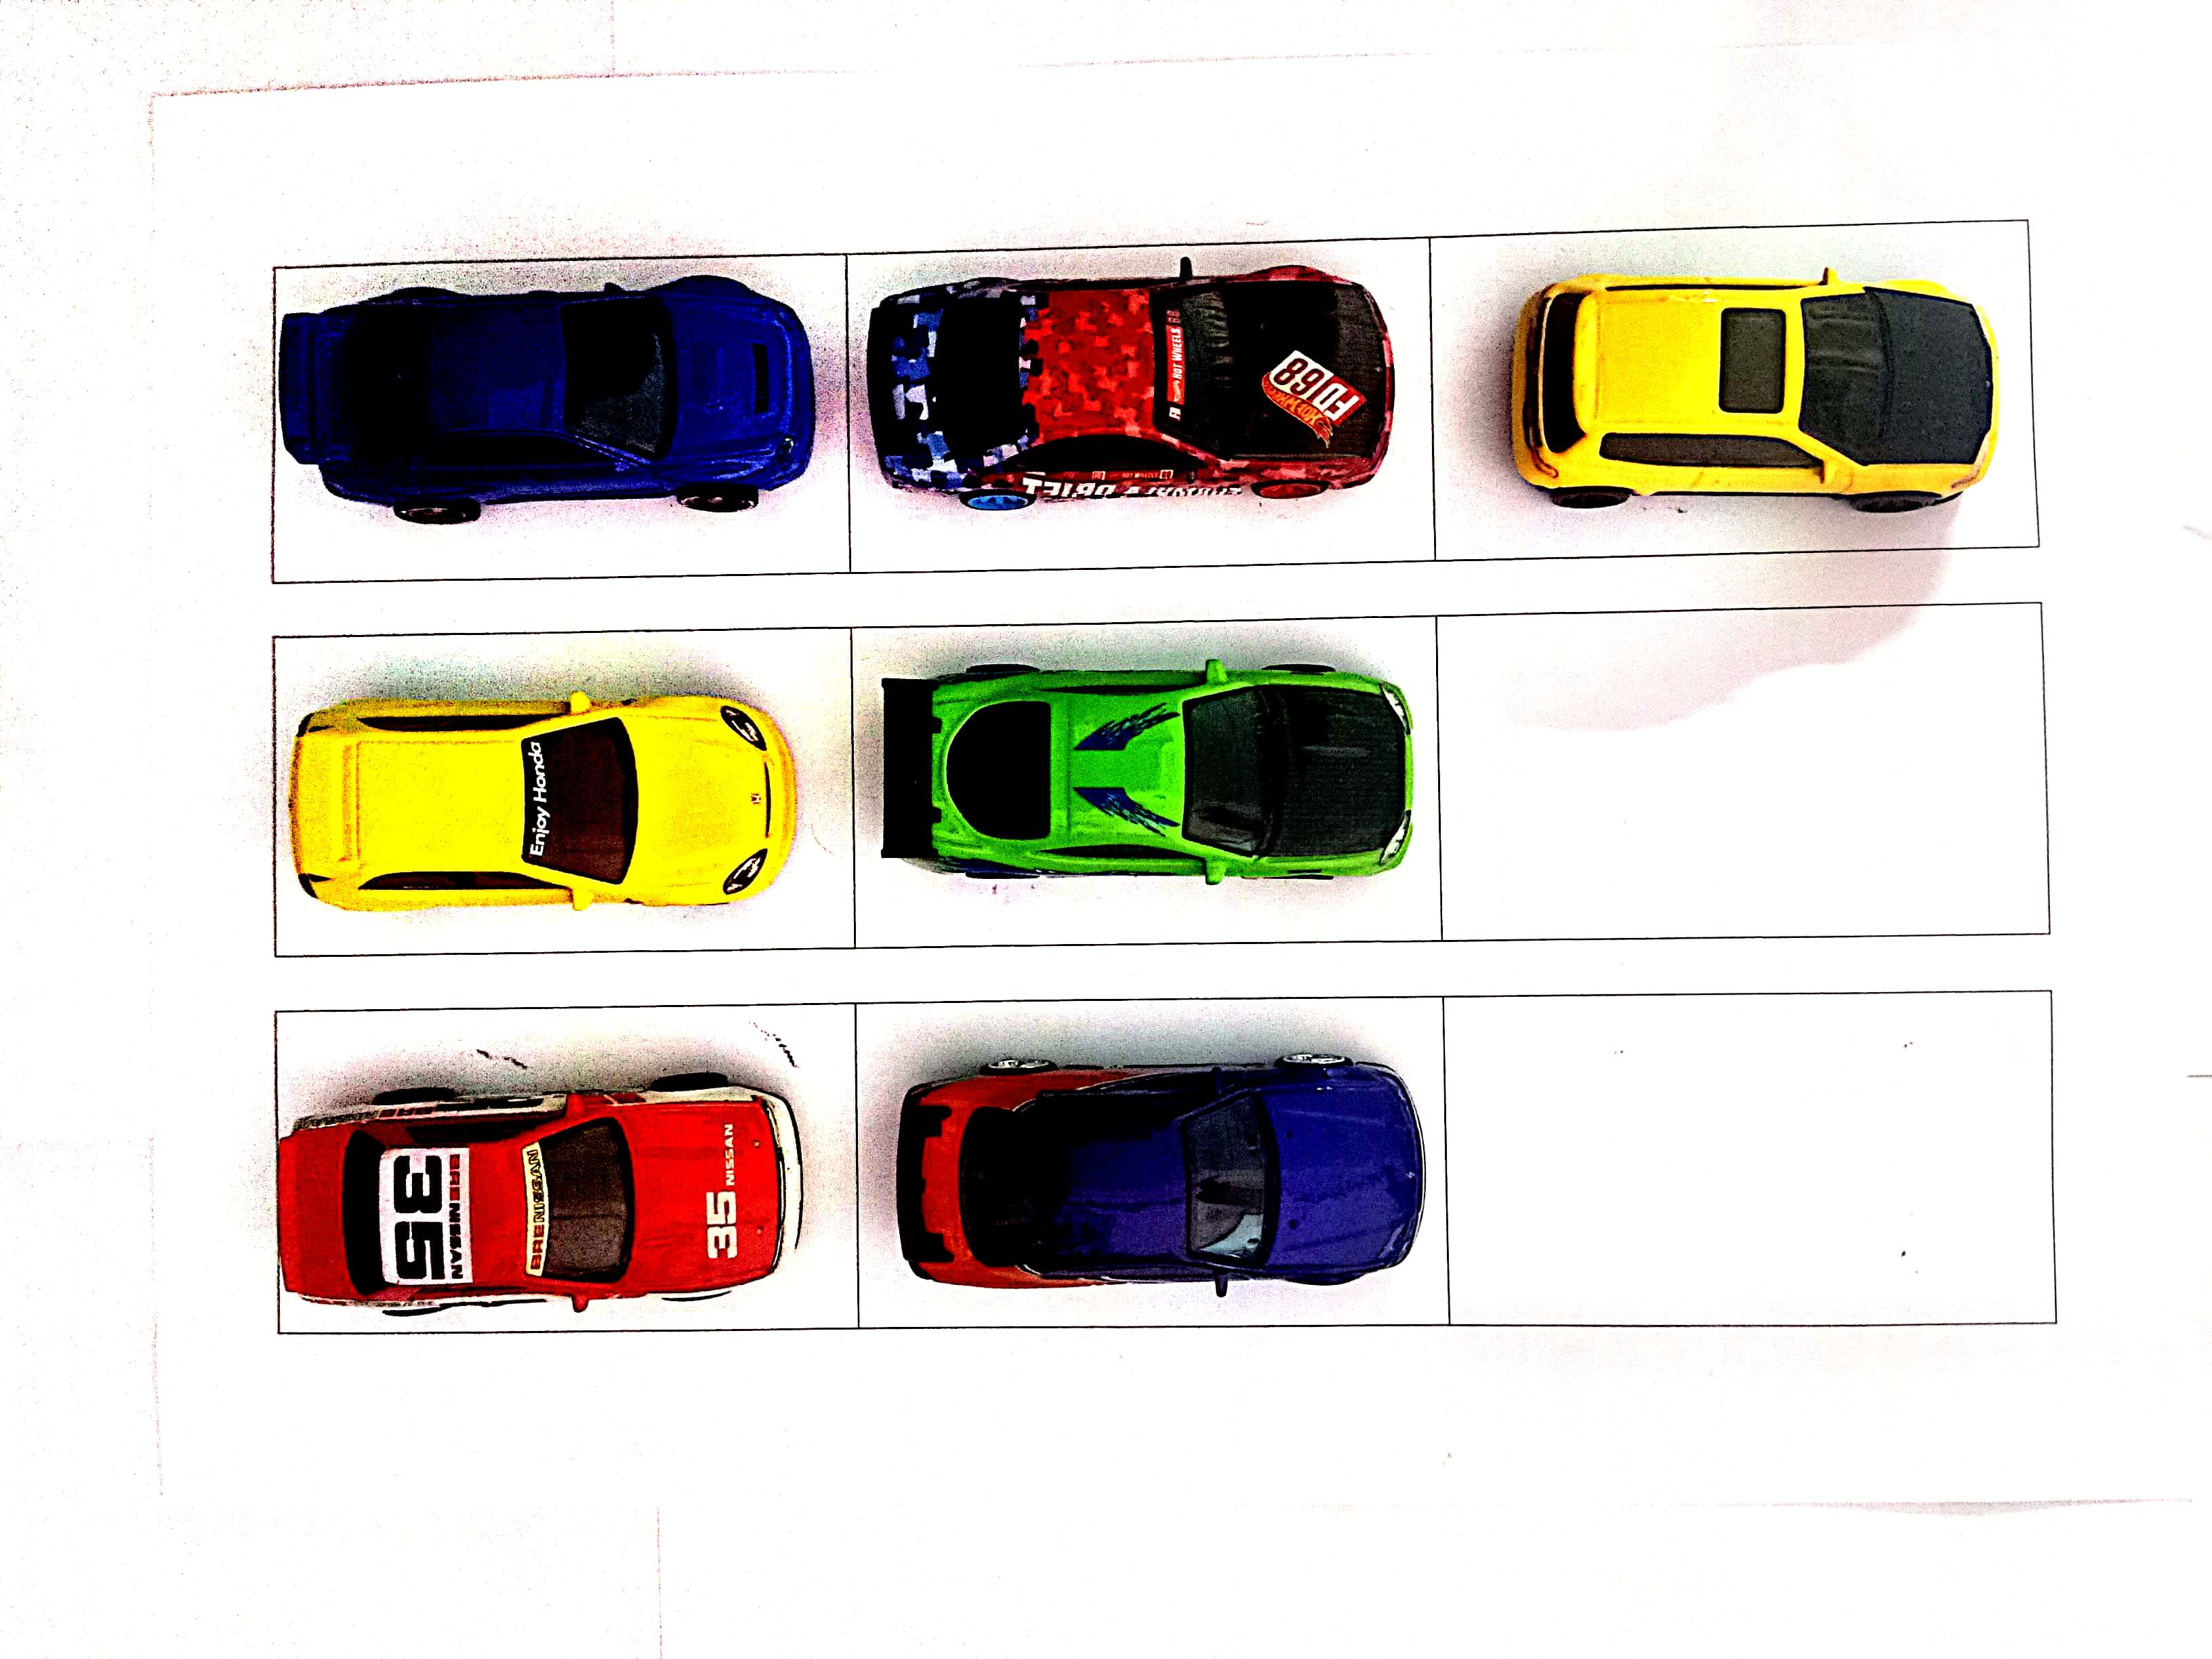Busy: (1437, 225, 2026, 556), (279, 1000, 859, 1331), (864, 1000, 1446, 1328), (266, 258, 848, 577), (853, 253, 1433, 572), (279, 631, 846, 955), (862, 619, 1432, 941)
Free: (1447, 995, 2050, 1323), (1442, 613, 2041, 938)
